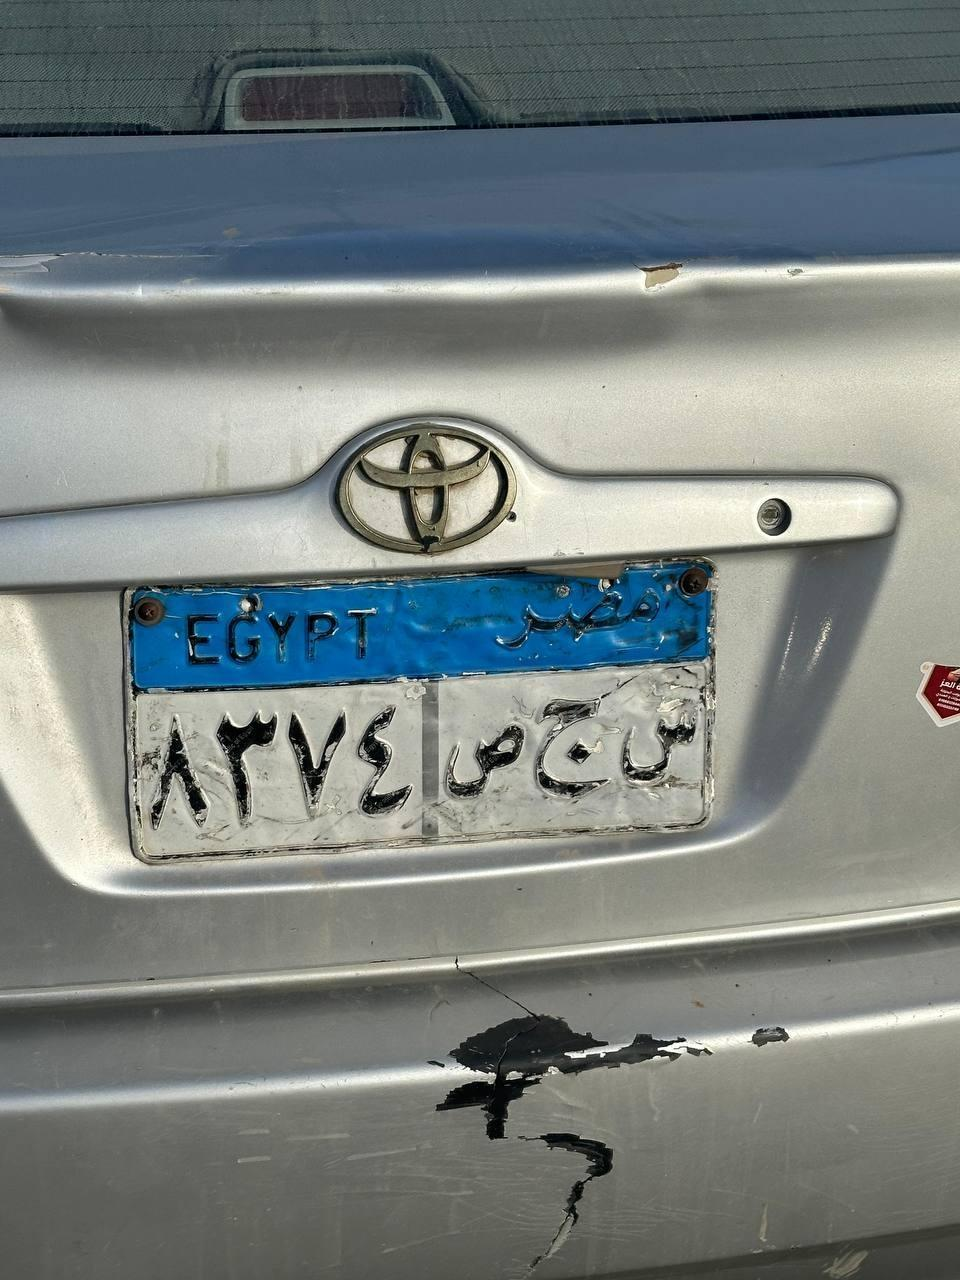3: (214, 707, 276, 822)
4: (357, 706, 416, 821)
7: (287, 711, 348, 816)
8: (145, 715, 211, 826)
License Plate: (115, 553, 724, 838)
Saad: (442, 723, 526, 799)
Seen: (620, 696, 711, 791)
geem: (530, 688, 614, 799)
